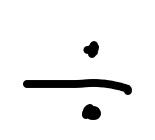div: (24, 41, 131, 119)
